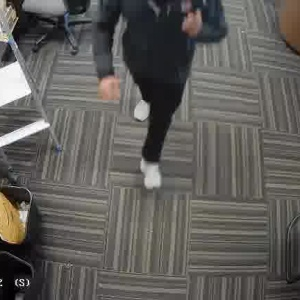person: (100, 0, 214, 196)
